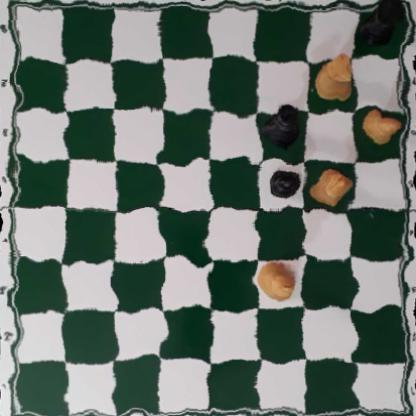black-king: (260, 105, 300, 152)
black-pawn: (268, 167, 300, 201)
black-rook: (358, 0, 402, 47)
white-bishop: (311, 165, 351, 205)
white-king: (259, 257, 301, 301)
white-pawn: (363, 107, 400, 147)
white-rook: (314, 52, 359, 103)
